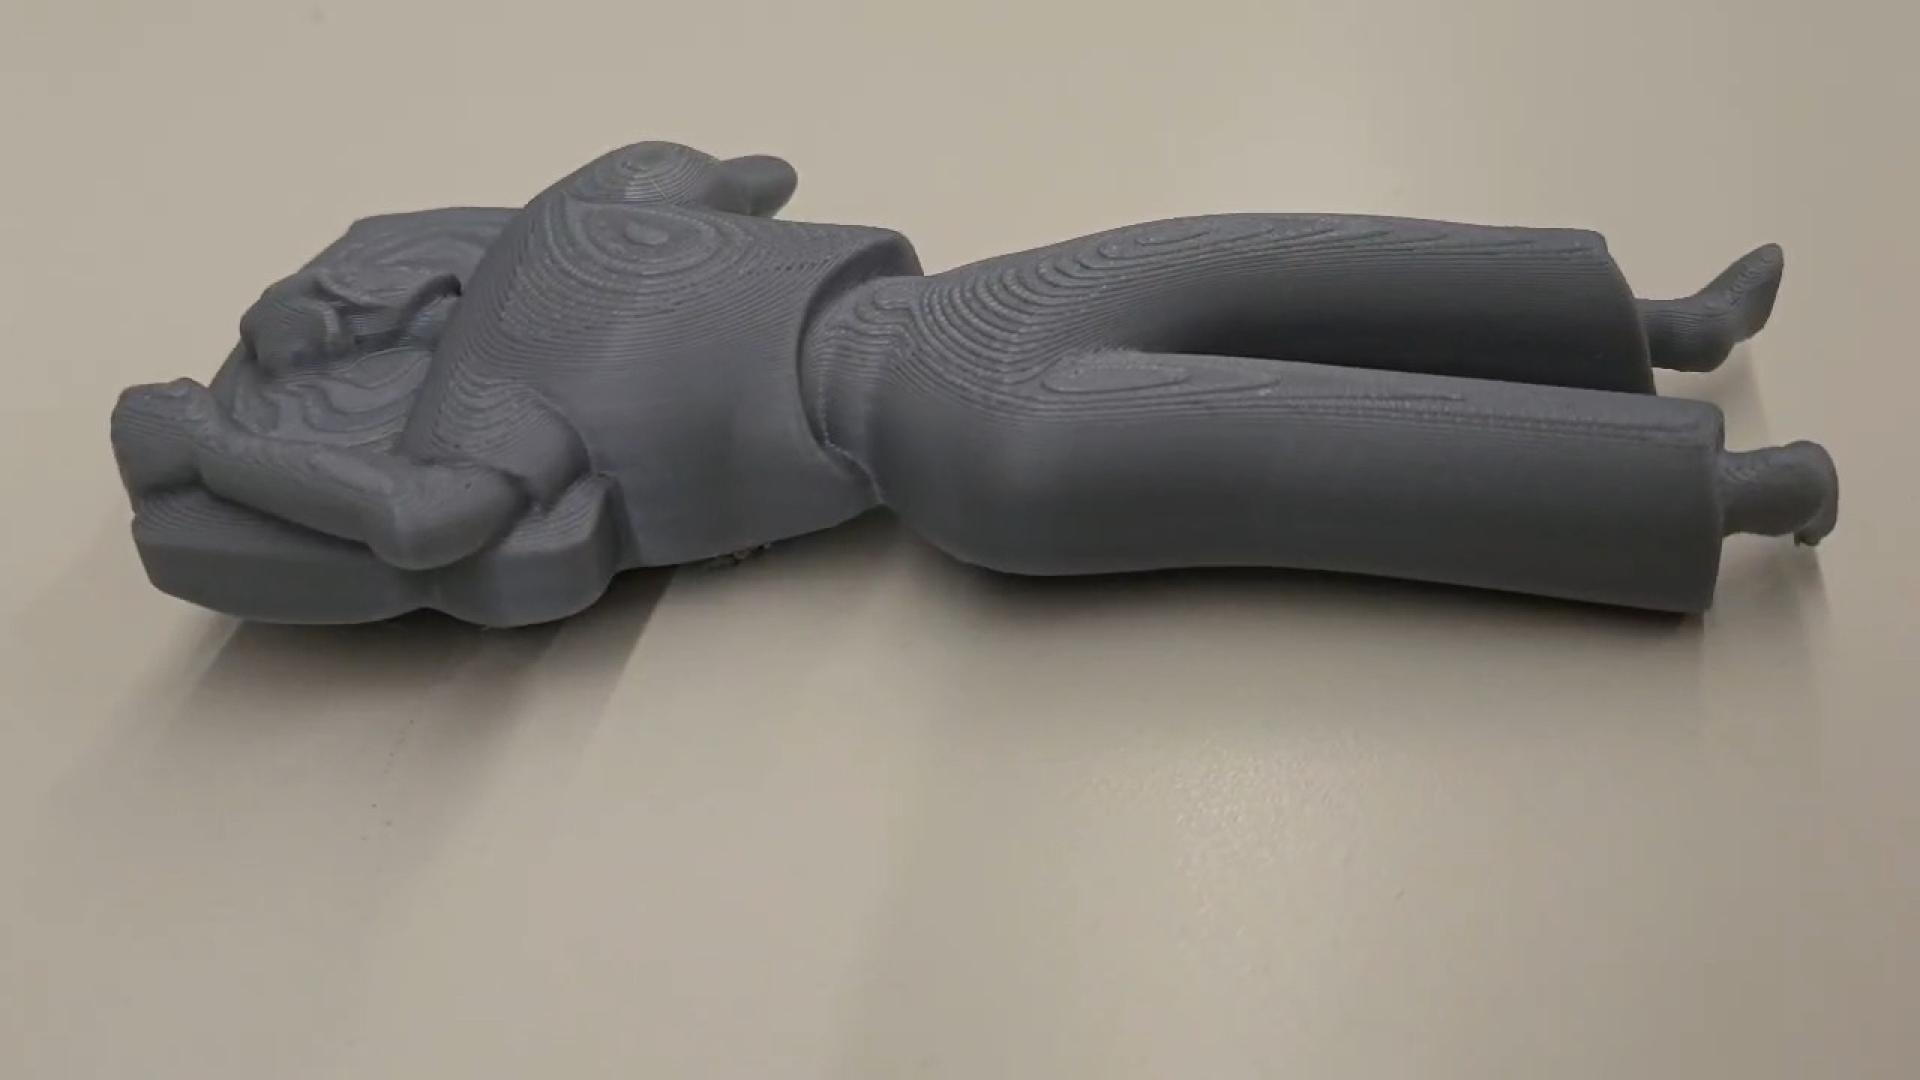Bad-style: (98, 129, 1857, 636)
